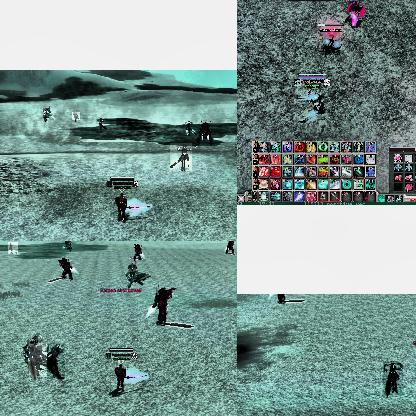caliana: (383, 361, 403, 395), (47, 343, 65, 379), (170, 143, 192, 171), (29, 343, 47, 377), (23, 333, 43, 361), (320, 31, 340, 55), (184, 121, 196, 135), (97, 117, 107, 131), (8, 242, 18, 254), (72, 112, 80, 120)
